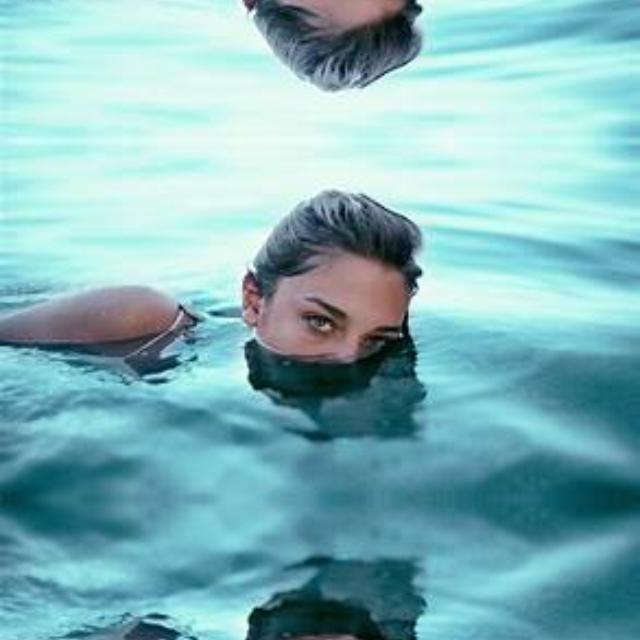person: (212, 165, 412, 393), (212, 0, 412, 115), (212, 603, 412, 640)
